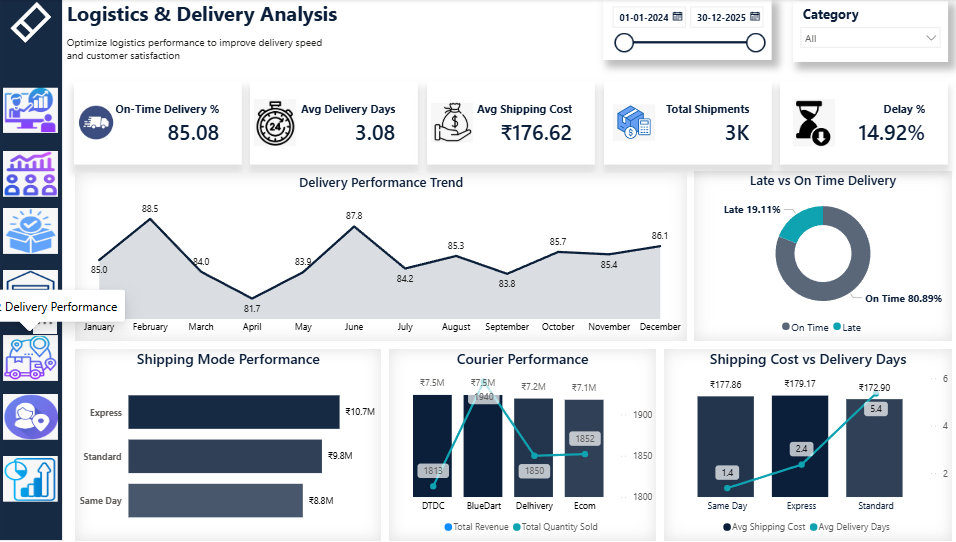

This screenshot's page, from the dashboard's own definition file:
{"tool":"powerbi","page":{"name":"Logistics & Delivery Performance","canvas":[1280,720],"ordinal":4},"visuals":[{"type":"shape","box":[0,0,84.9,720],"z":0,"group":"g2"},{"type":"textbox","title":"Logistics & Delivery Analysis","box":[85.3,0,370.2,44],"z":0},{"type":"image","title":"Executive summary","box":[5.9,117.1,73.2,61.5],"z":0,"group":"g1"},{"type":"actionButton","box":[0,0,84.9,62.9],"z":1000,"group":"g2"},{"type":"cardVisual","title":"Total Revenue KPI","fields":{"Data":["Measure Table.On-Time Delivery %"]},"box":[99.1,108.7,223,111.5],"z":1000},{"type":"image","title":"Demand & customer","box":[5.9,202,73.2,61.5],"z":1000,"group":"g1"},{"type":"cardVisual","title":"Total Revenue KPI","fields":{"Data":["Measure Table.Average Delivery Days"]},"box":[333.8,108.7,223,111.5],"z":2000},{"type":"group","id":"g1","title":"Navigation page buttons","box":[5.9,117.1,73.2,551.7],"z":2000,"group":"g2"},{"type":"image","title":"Inventory","box":[5.9,278.1,73.2,61.5],"z":2000,"group":"g1"},{"type":"cardVisual","title":"Total Revenue KPI","fields":{"Data":["Measure Table.Avg Shipping Cost"]},"box":[568.4,108.7,223,111.5],"z":3000},{"type":"image","title":"Warehouse","box":[5.9,360,73.2,61.5],"z":3000,"group":"g1"},{"type":"cardVisual","title":"Total Revenue KPI","fields":{"Data":["Measure Table.Total Shipments"]},"box":[803.1,108.7,223,111.5],"z":4000},{"type":"image","title":"Regional","box":[5.9,525.4,73.2,61.5],"z":4000,"group":"g1"},{"type":"cardVisual","title":"Total Revenue KPI","fields":{"Data":["Measure Table.Delay %"]},"box":[1037.8,108.7,223,111.5],"z":5000},{"type":"image","title":"Delivery","box":[5.9,446.4,73.2,61.5],"z":5000,"group":"g1"},{"type":"areaChart","title":"Delivery Performance Trend","fields":{"Category":["Calendar Table.Date.Variation.Date Hierarchy.Month"],"Y":["Measure Table.On-Time Delivery %"]},"box":[100.5,231.2,813.4,223],"z":6000},{"type":"image","title":"Scorecard","box":[5.9,607.3,73.2,61.5],"z":6000,"group":"g1"},{"type":"donutChart","title":"Late vs On Time Delivery","fields":{"Y":["Measure Table.Total Orders"],"Category":["orders.Delivery_Status"]},"box":[923.5,228.5,342.7,225.7],"z":7000},{"type":"clusteredBarChart","title":"Shipping Mode Performance","fields":{"Category":["orders.Shipping_Mode"],"Y":["Measure Table.Total Revenue"]},"box":[100.5,465.2,407.4,254.6],"z":8000},{"type":"lineStackedColumnComboChart","title":"Courier Performance","fields":{"Category":["logistics.Courier"],"Y":["Measure Table.Total Revenue"],"Y2":["Measure Table.Total Quantity Sold"]},"box":[517.5,465.2,355.1,254.6],"z":9000},{"type":"lineStackedColumnComboChart","title":"Shipping Cost vs Delivery  Days","fields":{"Category":["orders.Shipping_Mode"],"Y":["Measure Table.Avg Shipping Cost"],"Y2":["Measure Table.Avg Delivery Days"]},"box":[883.6,465.2,382.6,254.6],"z":10000},{"type":"textbox","box":[85.3,44,370.2,52.3],"z":11000},{"type":"slicer","fields":{"Values":["Calendar Table.Date"]},"box":[802.4,0,224.3,81.2],"z":12000},{"type":"slicer","fields":{"Values":["products.Category"]},"box":[1054.3,2.8,206.5,81.2],"z":13000},{"type":"image","title":"Total Revenue KPI","box":[573.9,133.5,56.4,63.3],"z":14000},{"type":"image","title":"Total Revenue KPI","box":[100.5,133.5,53.7,63.3],"z":15000},{"type":"image","title":"Total Revenue KPI","box":[334.5,133.5,63.3,63.3],"z":16000},{"type":"image","title":"Total Revenue KPI","box":[816.2,133.5,56.4,63.3],"z":17000},{"type":"image","title":"Total Revenue KPI","box":[1054.3,133.5,56.4,63.3],"z":18000},{"type":"group","id":"g2","title":"Navigation bar","box":[0,0,84.9,720],"z":19000}]}

Visuals, with their boxes on the page's 1280x720 design canvas (x1, y1, x2, y2). These are canvas units, not pixel positions in the 956x542 screenshot, which may show the page scaled, cropped or inside an application window:
shape: locate(0, 0, 85, 720)
"Logistics & Delivery Analysis" textbox: locate(85, 0, 456, 44)
"Executive summary" image: locate(6, 117, 79, 179)
actionButton: locate(0, 0, 85, 63)
"Total Revenue KPI" cardVisual: locate(99, 109, 322, 220)
"Demand & customer" image: locate(6, 202, 79, 264)
"Total Revenue KPI" cardVisual: locate(334, 109, 557, 220)
"Navigation page buttons" group: locate(6, 117, 79, 669)
"Inventory" image: locate(6, 278, 79, 340)
"Total Revenue KPI" cardVisual: locate(568, 109, 791, 220)
"Warehouse" image: locate(6, 360, 79, 422)
"Total Revenue KPI" cardVisual: locate(803, 109, 1026, 220)
"Regional" image: locate(6, 525, 79, 587)
"Total Revenue KPI" cardVisual: locate(1038, 109, 1261, 220)
"Delivery" image: locate(6, 446, 79, 508)
"Delivery Performance Trend" areaChart: locate(100, 231, 914, 454)
"Scorecard" image: locate(6, 607, 79, 669)
"Late vs On Time Delivery" donutChart: locate(924, 228, 1266, 454)
"Shipping Mode Performance" clusteredBarChart: locate(100, 465, 508, 720)
"Courier Performance" lineStackedColumnComboChart: locate(518, 465, 873, 720)
"Shipping Cost vs Delivery  Days" lineStackedColumnComboChart: locate(884, 465, 1266, 720)
textbox: locate(85, 44, 456, 96)
slicer - Calendar Table.Date: locate(802, 0, 1027, 81)
slicer - products.Category: locate(1054, 3, 1261, 84)
"Total Revenue KPI" image: locate(574, 134, 630, 197)
"Total Revenue KPI" image: locate(100, 134, 154, 197)
"Total Revenue KPI" image: locate(334, 134, 398, 197)
"Total Revenue KPI" image: locate(816, 134, 873, 197)
"Total Revenue KPI" image: locate(1054, 134, 1111, 197)
"Navigation bar" group: locate(0, 0, 85, 720)
